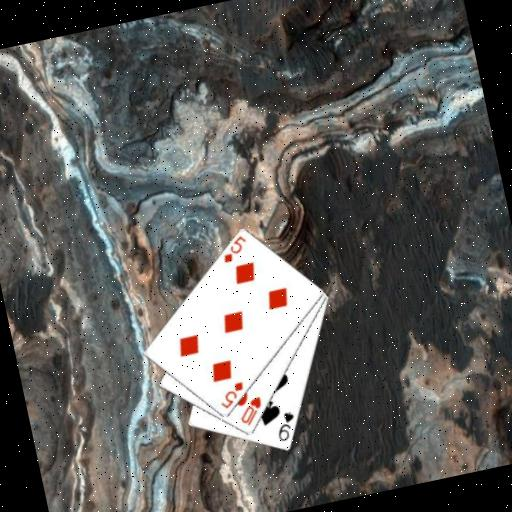10H: (234, 392, 267, 429)
5D: (214, 379, 249, 412), (216, 232, 251, 265)
9S: (270, 407, 300, 443)
